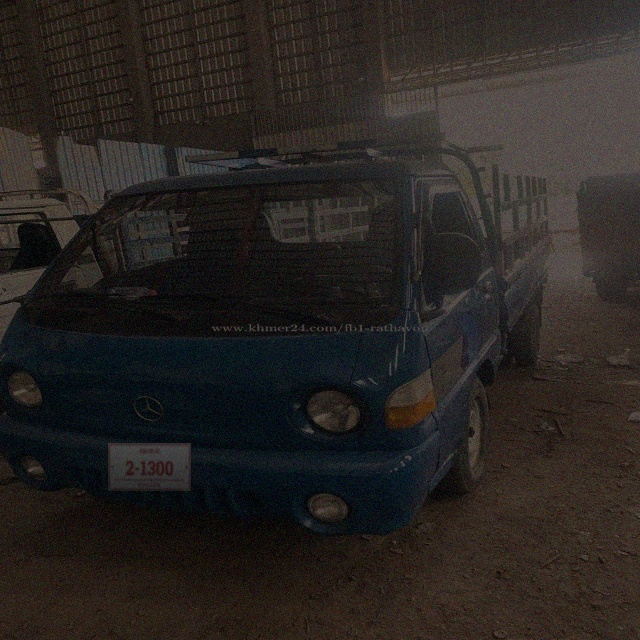Plate Number: (108, 444, 191, 491)
